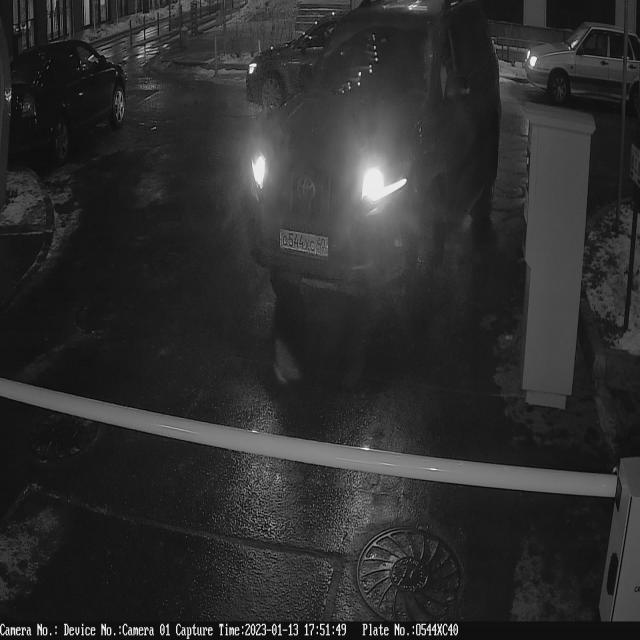car-plate-numbers: (280, 227, 331, 261)
